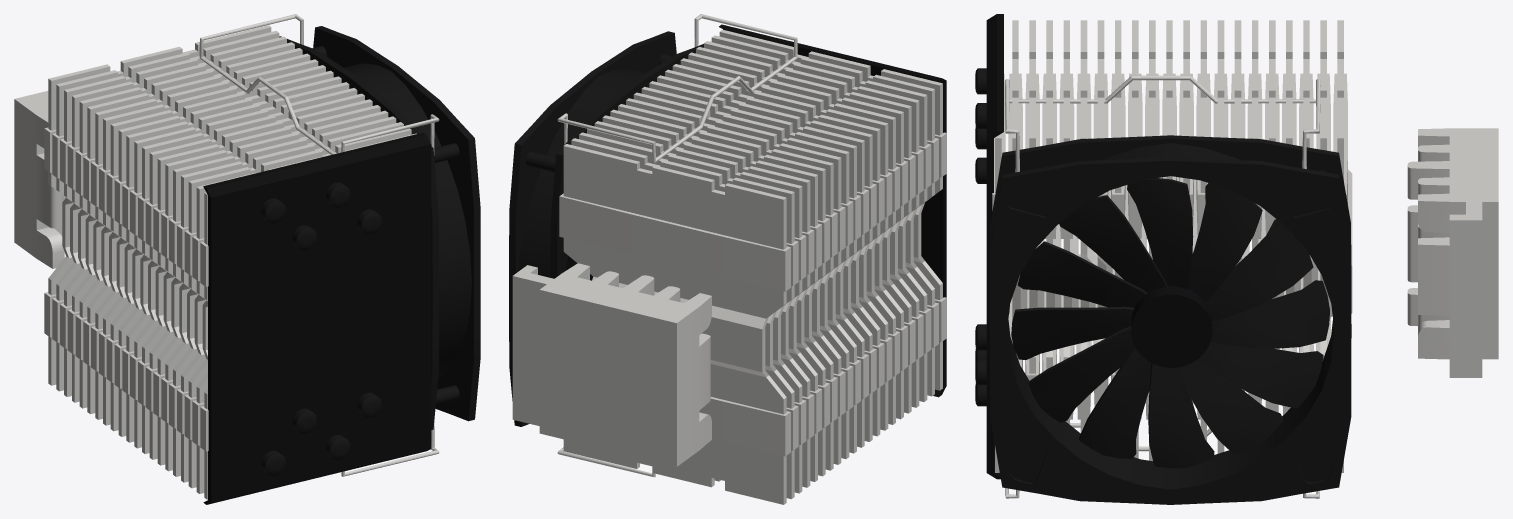
File: Tower.fbx
The picture shows the model from 3 angles, left to right: view 1: azimuth 30°, elevation 25°; view 2: azimuth 150°, elevation 25°; view 3: azimuth 270°, elevation 25°; orthographic projection. The views are drawn at different scales.
Parts seen in each view (by area): view 1: Tower; view 2: Tower; view 3: Tower, Plane.067.
Boxes of the visible parts, x1,y1,x2,y2 form: Tower: (14, 14, 480, 504); Tower: (509, 14, 946, 504); Tower: (975, 14, 1498, 504); Plane.067: (1011, 178, 1329, 468).
Bounding box in the file's own units: 0.1109 × 0.1323 × 0.1672.
